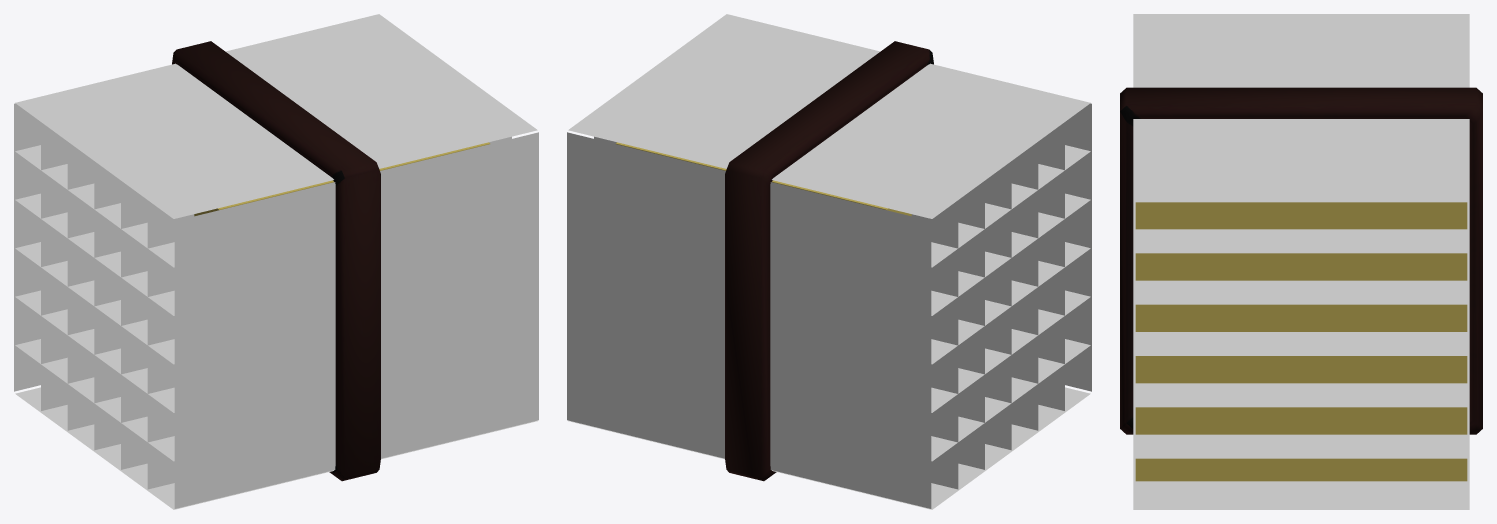
Rendered from jerami tebel astgaa.fbx.
3 renders of one model, left to right at view 1: azimuth 30°, elevation 25°; view 2: azimuth 150°, elevation 25°; view 3: azimuth 270°, elevation 25°, orthographic. The views are drawn at different scales.
Parts seen in each view (by area): view 1: Plane.001, Cube.001, Cube; view 2: Plane.001, Cube.001, Cube; view 3: Plane.001, Cube, Cube.001.
Part boxes in pixels (bbox=[...]): Plane.001: bbox=[14, 14, 538, 509]; Cube.001: bbox=[172, 41, 380, 481]; Cube: bbox=[194, 142, 490, 216]; Plane.001: bbox=[567, 14, 1091, 509]; Cube.001: bbox=[725, 41, 933, 481]; Cube: bbox=[615, 142, 911, 216]; Plane.001: bbox=[1133, 14, 1469, 509]; Cube: bbox=[1135, 202, 1467, 481]; Cube.001: bbox=[1120, 87, 1482, 434].
Size of the model in its own units: 269 by 219 by 219.
3 materials, 1 textured.
